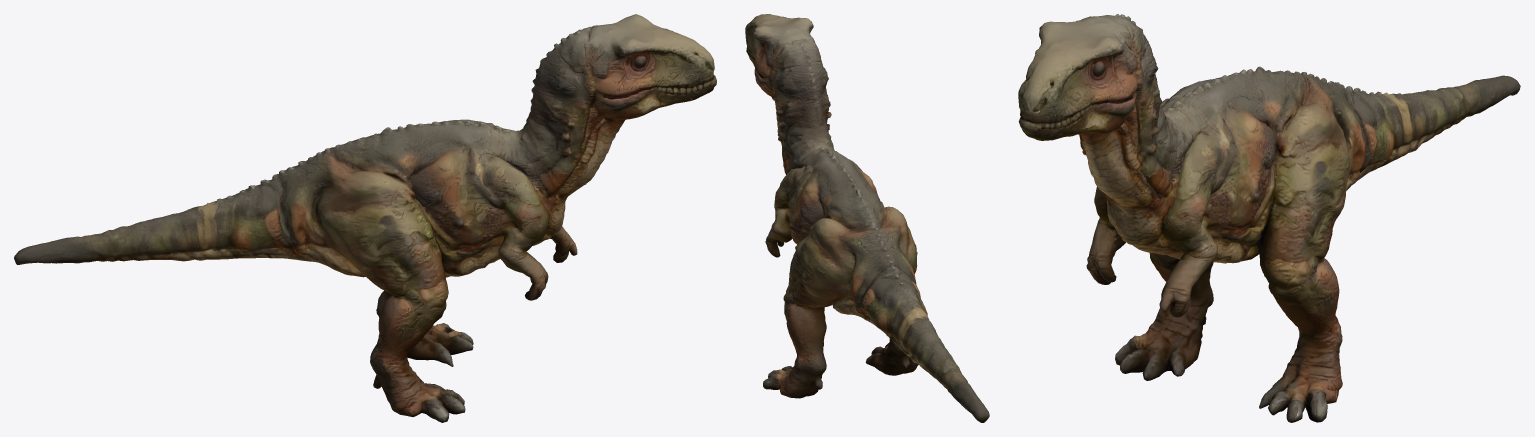
The model's file is yangchuanosaurus.glb.
3 views of the same model, side by side, from view 1: azimuth 30°, elevation 25°; view 2: azimuth 150°, elevation 25°; view 3: azimuth 270°, elevation 25° (orthographic). The views are drawn at different scales.
Parts seen in each view (by area): view 1: tripo_node_f4929675-39b8-4c5a-9c8c-b80159233bd3; view 2: tripo_node_f4929675-39b8-4c5a-9c8c-b80159233bd3; view 3: tripo_node_f4929675-39b8-4c5a-9c8c-b80159233bd3.
Part boxes in pixels (left/top/right/bottom): tripo_node_f4929675-39b8-4c5a-9c8c-b80159233bd3: left=14, top=14, right=716, bottom=422; tripo_node_f4929675-39b8-4c5a-9c8c-b80159233bd3: left=745, top=14, right=989, bottom=422; tripo_node_f4929675-39b8-4c5a-9c8c-b80159233bd3: left=1018, top=14, right=1520, bottom=422.
Bounding box in the file's own units: 1 × 0.7034 × 0.7279.
Materials: 1 (1 with a texture image).
